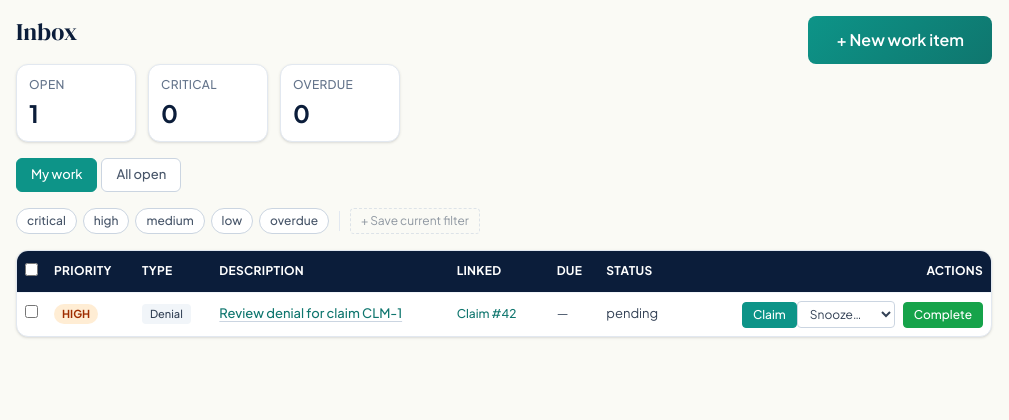
Scenario: InboxPage › assignment to others › disables bulk Assign-all select when assignable list is empty
What coordinates should you click on to do the following:
click the checkbox named "Select item 1"
I would click on:
 (32, 312)
Its box is 25,305 -> 38,318.
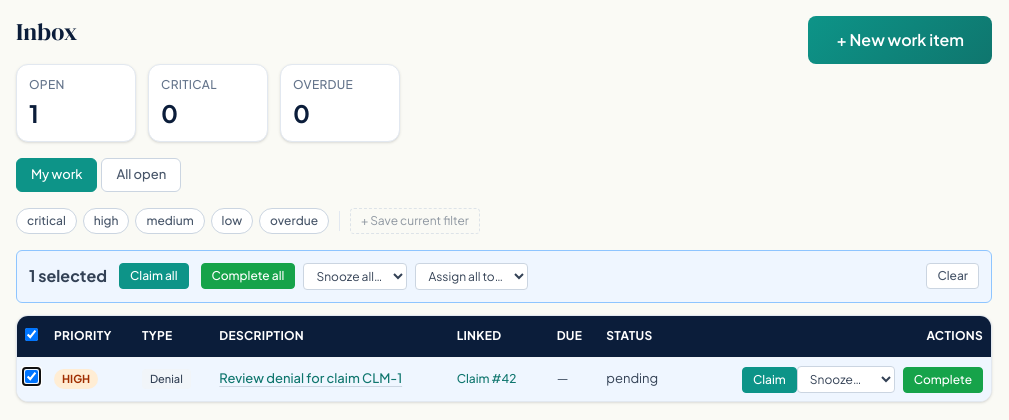
expect the dropdown named "Assign all selected to" is disabled: met, box 415,262 -> 528,290
